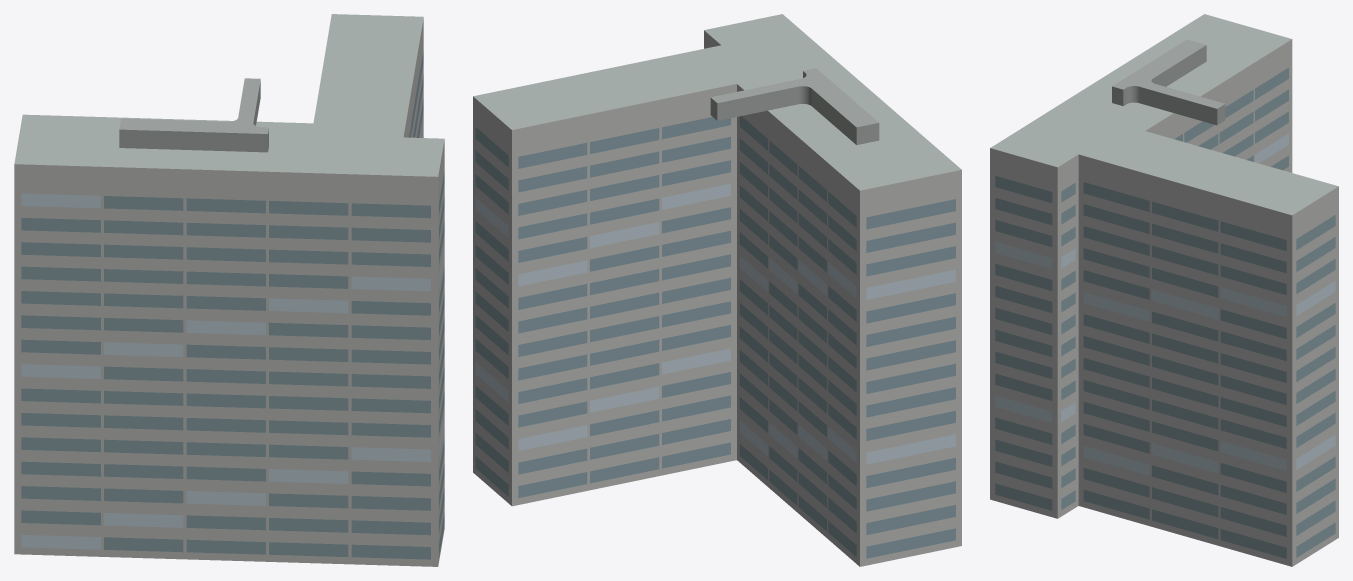
File: residual-dmc-raemian-e-pyeonhansesang-apt-a12013003.glb
3 renders of one model, left to right at view 1: azimuth 30°, elevation 25°; view 2: azimuth 150°, elevation 25°; view 3: azimuth 270°, elevation 25°, orthographic. The views are drawn at different scales.
Parts seen in each view (by area): view 1: residual-dmc-raemian-e-pyeonhansesang-apt-a12013003; view 2: residual-dmc-raemian-e-pyeonhansesang-apt-a12013003; view 3: residual-dmc-raemian-e-pyeonhansesang-apt-a12013003.
Boxes of the visible parts, x1,y1,x2,y2 form: residual-dmc-raemian-e-pyeonhansesang-apt-a12013003: (14,14,444,566); residual-dmc-raemian-e-pyeonhansesang-apt-a12013003: (473,14,961,566); residual-dmc-raemian-e-pyeonhansesang-apt-a12013003: (990,14,1338,566).
Size of the model in its own units: 61.04 by 52 by 44.65.
